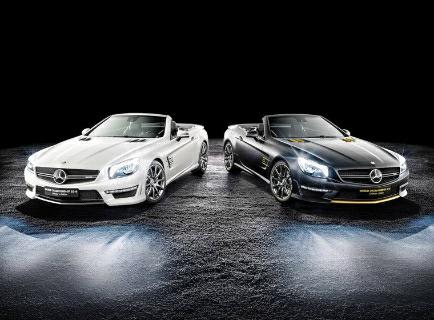奔驰-SL级AMG: (216, 106, 416, 224), (13, 106, 211, 221)
